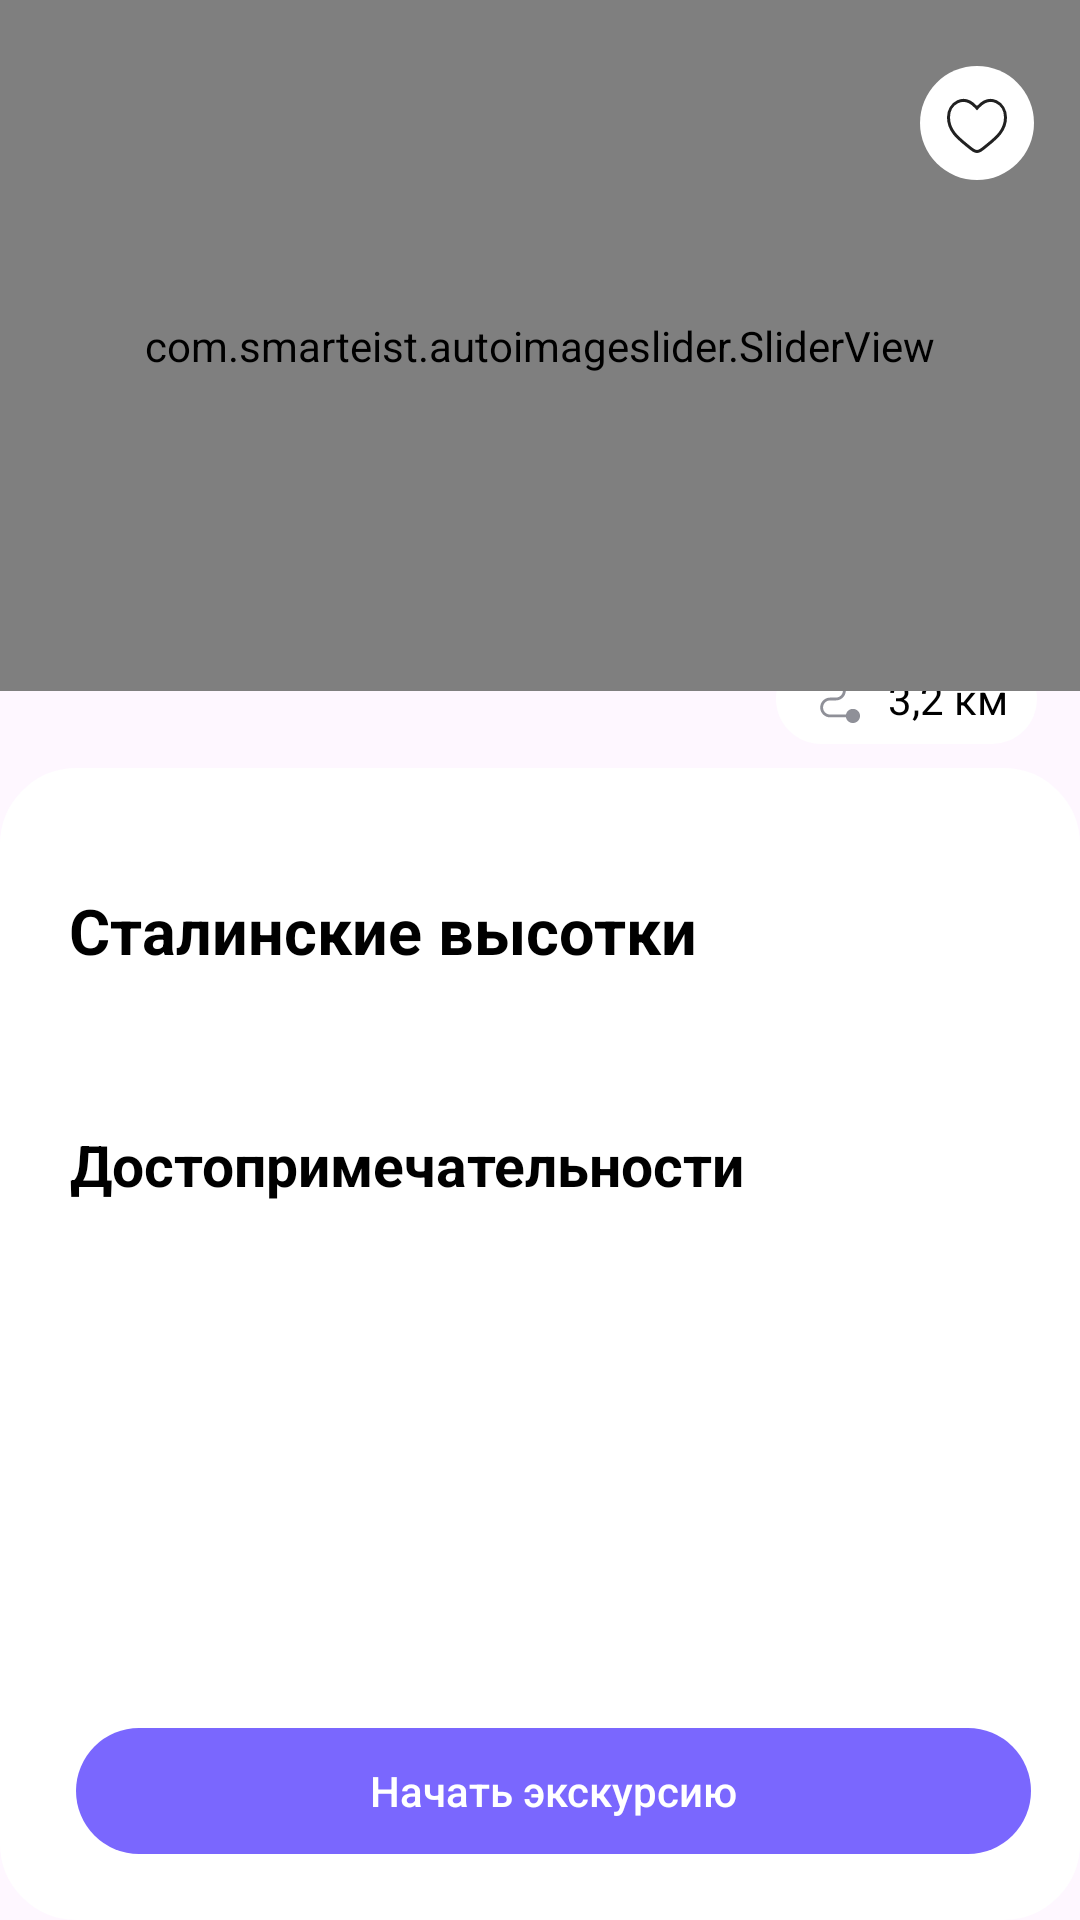

Point at icon controls on the screen. Image size 1080*1920, points as [x,y].
toggle favorites: [977,123]
